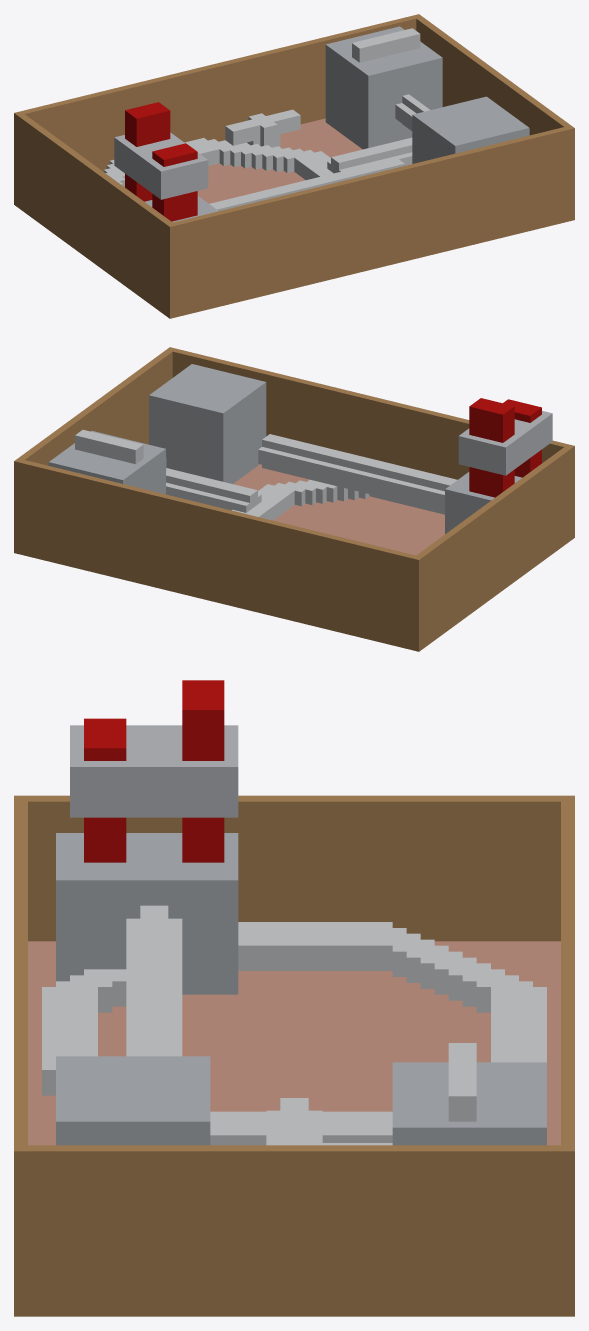
File: stand_ring_clamps.glb
3 views of the same model, one above another, from view 1: azimuth 30°, elevation 25°; view 2: azimuth 150°, elevation 25°; view 3: azimuth 270°, elevation 25° (orthographic). The views are drawn at different scales.
Visible parts, largest first — view 1: stand_ring_clamps:compound; view 2: stand_ring_clamps:compound; view 3: stand_ring_clamps:compound.
Boxes of the visible parts, left/top/right/bottom form: stand_ring_clamps:compound: left=14, top=14, right=574, bottom=318; stand_ring_clamps:compound: left=14, top=347, right=574, bottom=651; stand_ring_clamps:compound: left=14, top=680, right=574, bottom=1316.
Size of the model in its own units: 0.12 by 0.046 by 0.08.
